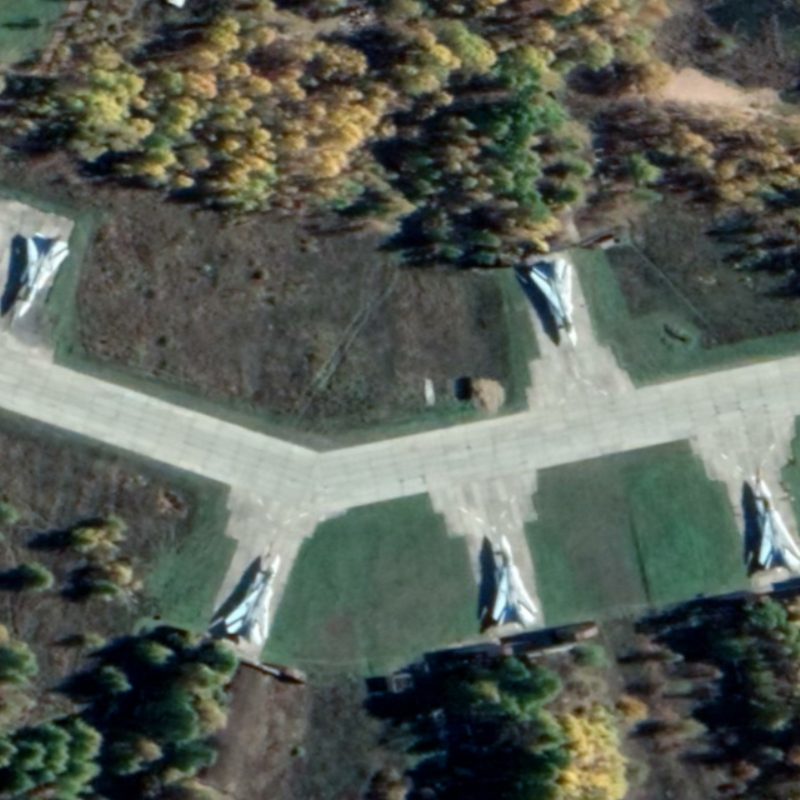A20: (222, 551, 283, 647), (14, 230, 72, 321), (528, 256, 580, 349), (490, 532, 539, 629), (755, 476, 800, 573)
